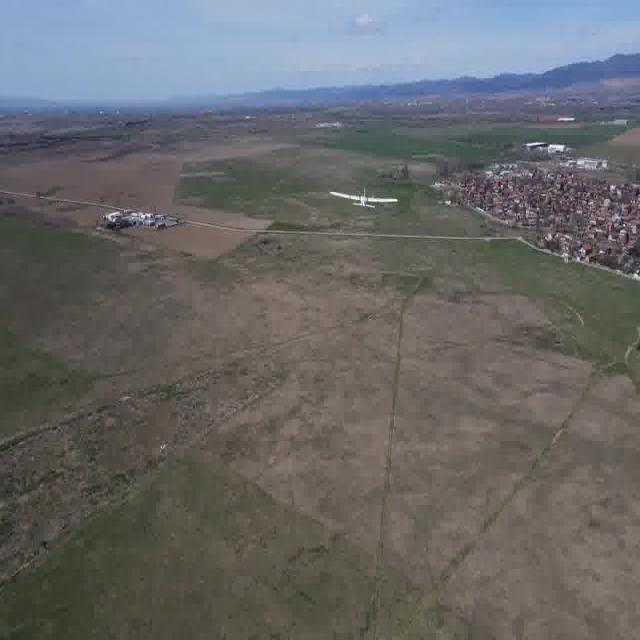iha: (358, 175, 371, 221)
